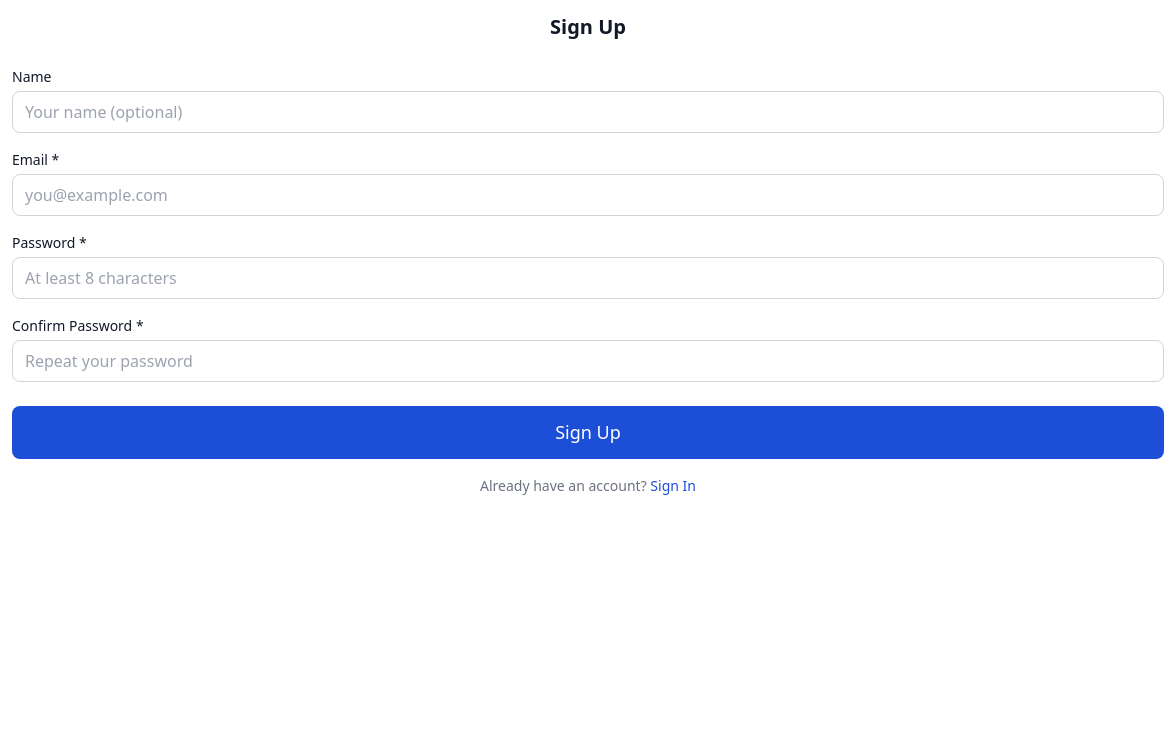
Test: sign-up page › shows error when confirm password is empty
In the field with id "sign-up-email": (588, 195) [12,174,1164,216], type "user@example.com"
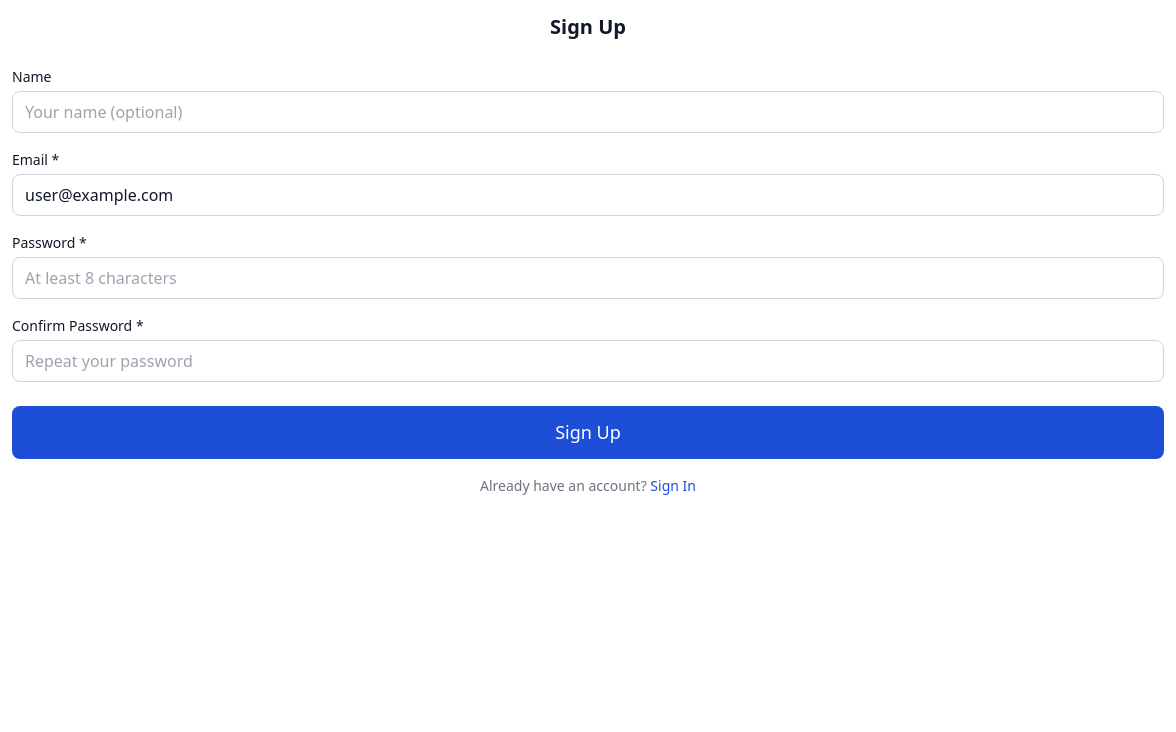
In the password field with id "sign-up-password": (588, 278) [12,257,1164,299], type "password123"
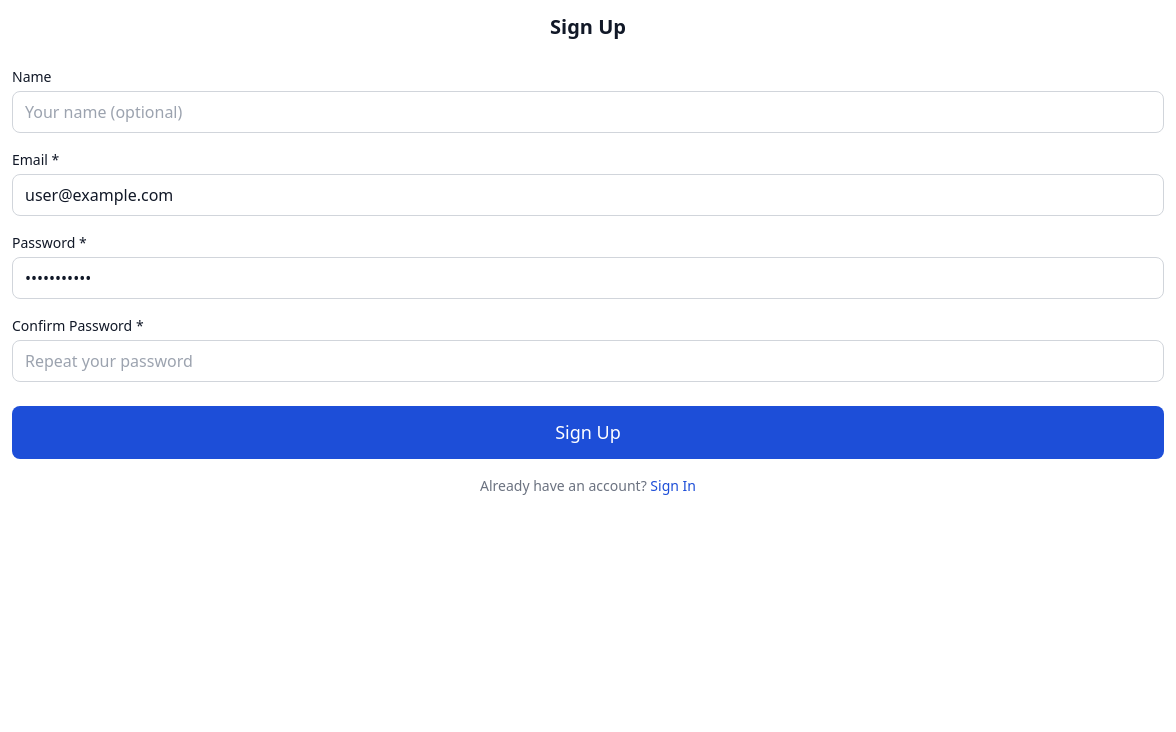
Submit the form, box [12,66,1164,459]
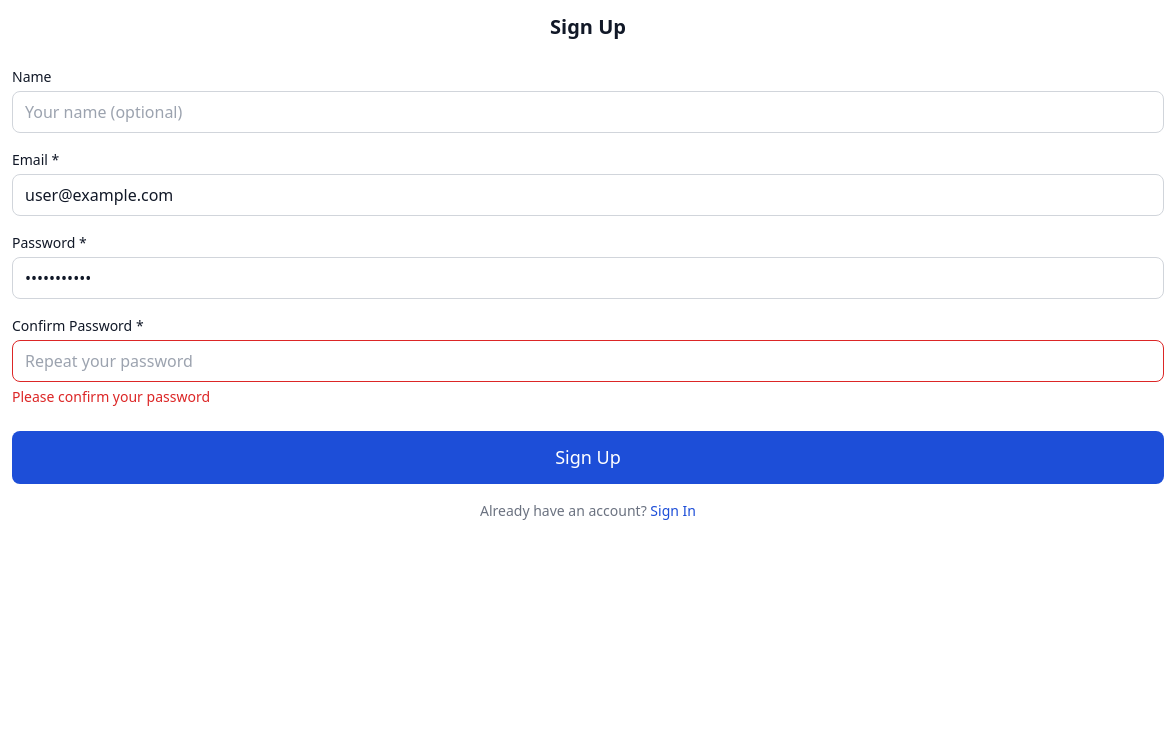
Check: the text "Please confirm your password" is shown, box [12,387,210,406]
